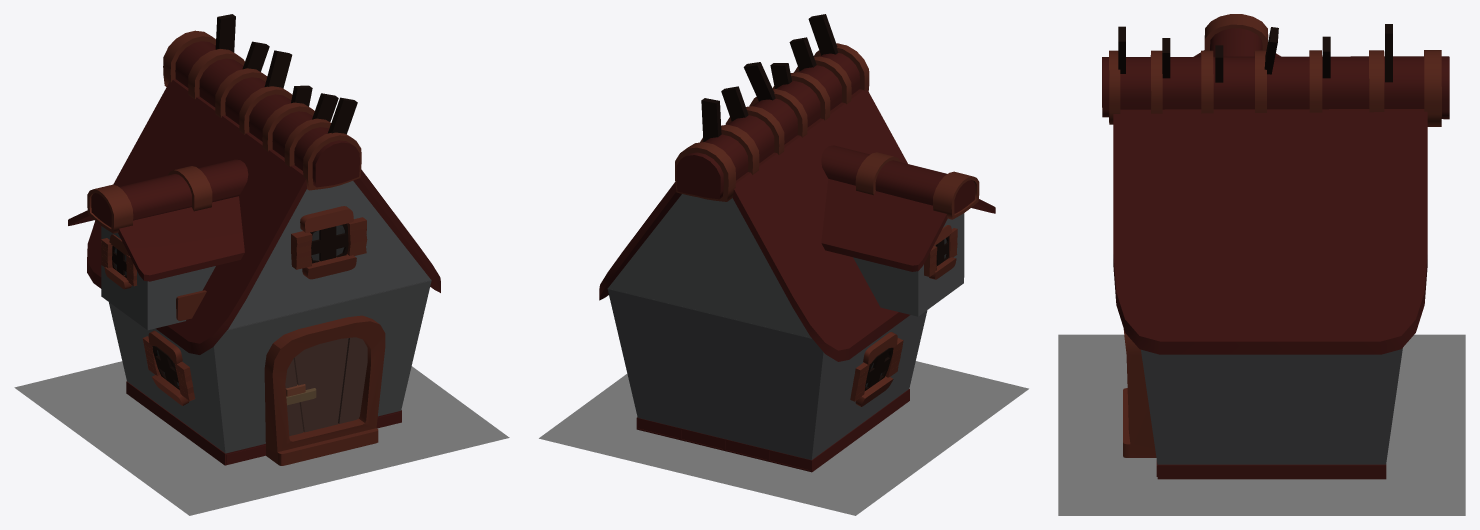
The model's file is House2.fbx.
3 views of the same model, side by side, from view 1: azimuth 30°, elevation 25°; view 2: azimuth 150°, elevation 25°; view 3: azimuth 270°, elevation 25° (orthographic). The views are drawn at different scales.
Parts seen in each view (by area): view 1: Plane001, Box003, Box001, Box002, Object001, Box005, Cylinder001, Object003, Object002, Cylinder002, Object004, Box004 (+10 smaller); view 2: Box001, Plane001, Box003, Box002, Box005, Cylinder001, Object003, Cylinder002, Box004, Object004, Box024, Box029 (+4 smaller); view 3: Box003, Plane001, Box001, Cylinder001, Object003, Box004, Object001, Cylinder002, Object004, Box029.
Part boxes in pixels (x1=…): Plane001: x1=14, y1=361, x2=509, y2=515; Box003: x1=87, y1=79, x2=440, y2=354; Box001: x1=109, y1=280, x2=431, y2=453; Box002: x1=101, y1=181, x2=431, y2=330; Object001: x1=264, y1=315, x2=385, y2=465; Box005: x1=68, y1=196, x2=244, y2=281; Cylinder001: x1=167, y1=41, x2=359, y2=187; Object003: x1=163, y1=30, x2=361, y2=190; Object002: x1=285, y1=337, x2=367, y2=435; Cylinder002: x1=91, y1=159, x2=248, y2=227; Object004: x1=87, y1=166, x2=212, y2=233; Box004: x1=126, y1=381, x2=401, y2=465; Box001: x1=607, y1=289, x2=927, y2=460; Plane001: x1=539, y1=361, x2=1028, y2=515; Box003: x1=599, y1=89, x2=909, y2=361; Box002: x1=607, y1=194, x2=964, y2=338; Box005: x1=821, y1=179, x2=995, y2=271; Cylinder001: x1=676, y1=53, x2=859, y2=199; Object003: x1=675, y1=43, x2=869, y2=201; Cylinder002: x1=821, y1=145, x2=975, y2=213; Box004: x1=636, y1=389, x2=909, y2=472; Object004: x1=855, y1=152, x2=979, y2=219; Box024: x1=808, y1=14, x2=838, y2=55; Box029: x1=701, y1=98, x2=721, y2=141; Box003: x1=1113, y1=109, x2=1427, y2=354; Plane001: x1=1058, y1=334, x2=1465, y2=515; Box001: x1=1141, y1=348, x2=1402, y2=464; Cylinder001: x1=1102, y1=56, x2=1449, y2=119; Object003: x1=1109, y1=50, x2=1441, y2=126; Box004: x1=1156, y1=460, x2=1386, y2=479; Object001: x1=1123, y1=329, x2=1156, y2=457; Cylinder002: x1=1210, y1=28, x2=1262, y2=56; Object004: x1=1204, y1=14, x2=1268, y2=50; Box029: x1=1385, y1=24, x2=1392, y2=82.
Size of the model in its own units: 630 by 641 by 575.
